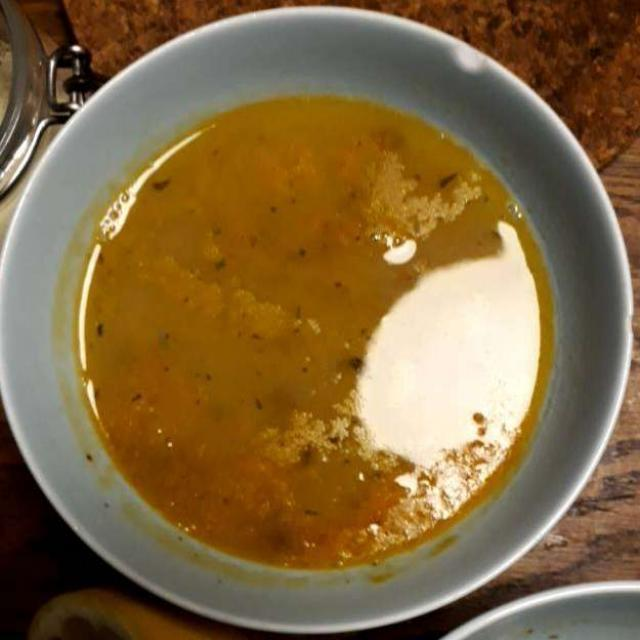soup: (84, 107, 545, 568)
